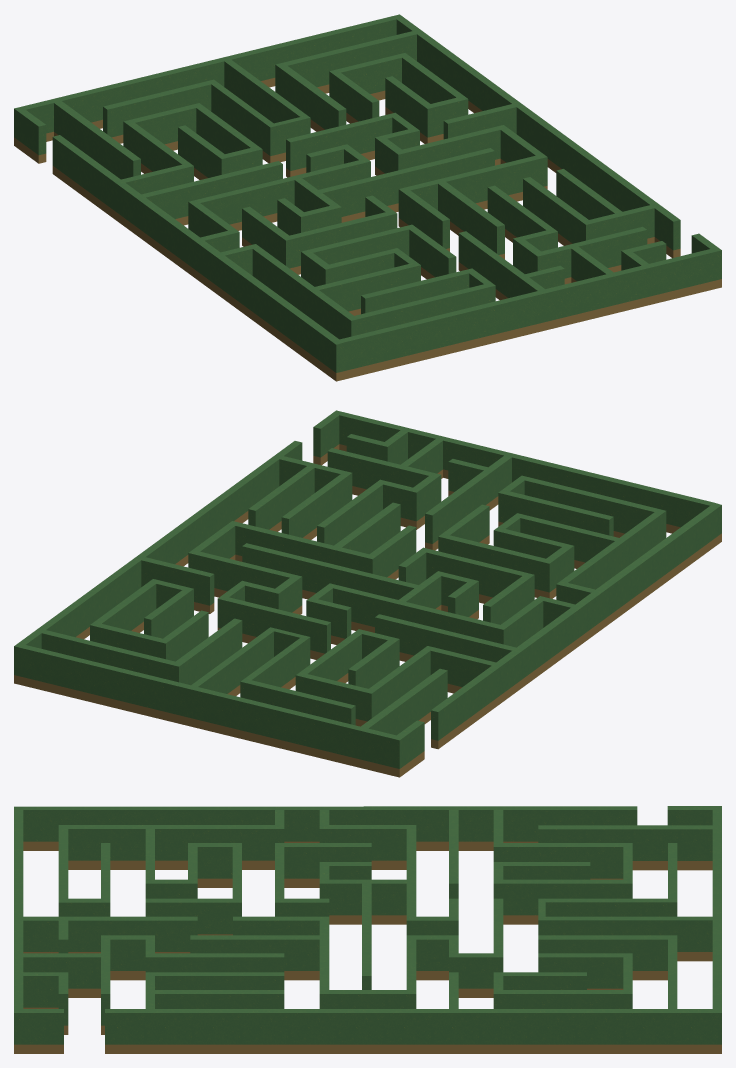
The model's file is maze 2.glb.
3 views of the same model, one above another, from view 1: azimuth 30°, elevation 25°; view 2: azimuth 150°, elevation 25°; view 3: azimuth 270°, elevation 25° (orthographic). The views are drawn at different scales.
Parts seen in each view (by area): view 1: maze_2; view 2: maze_2; view 3: maze_2.
Part boxes in pixels (bbox=[...]): maze_2: bbox=[14, 14, 721, 381]; maze_2: bbox=[14, 410, 721, 777]; maze_2: bbox=[14, 806, 721, 1053].
Size of what is drawn, in the model's own units: 47.33 by 4.36 by 68.48.
Materials: 2 (1 with a texture image).
